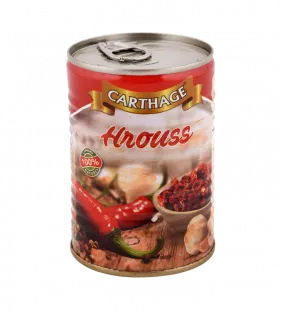CARTHAGE: (60, 20, 221, 284)
